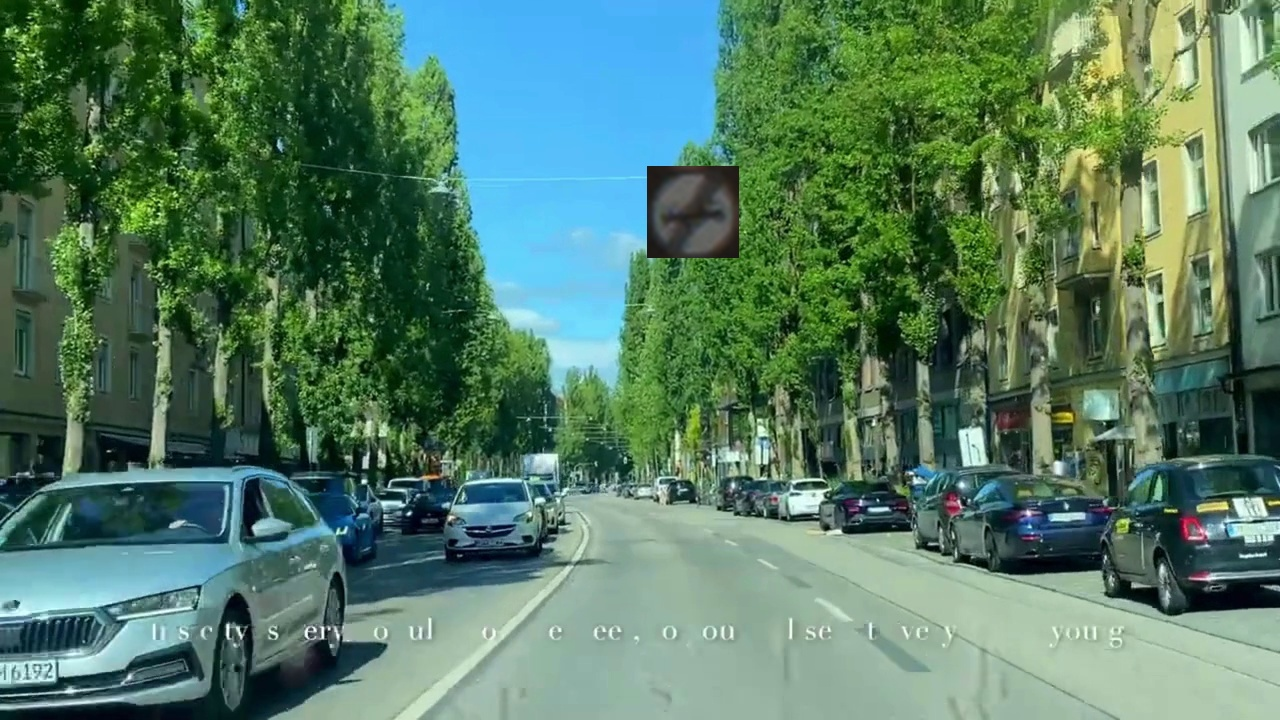End no pass: (647, 166, 739, 258)
